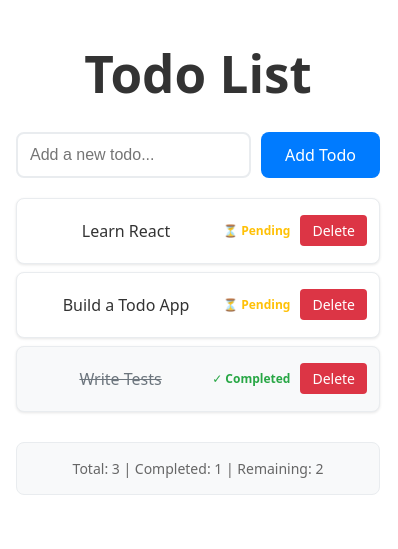
Test: TodoList Component › adds a new todo when form is submitted
The image size is (398, 549).
Type "New Todo Item" into the field with placeholder "Add a new todo..." at (134, 155), box [16, 132, 251, 178]
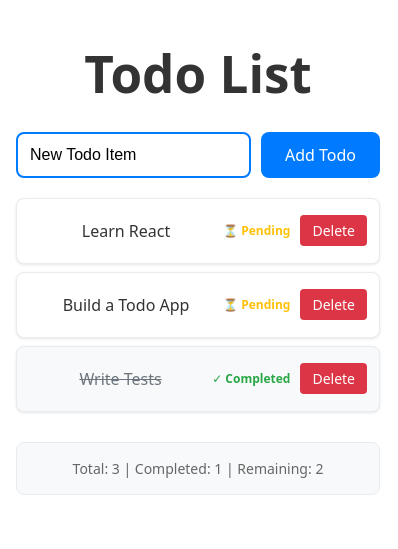
Click the button "Add Todo" at (320, 155), box [261, 132, 380, 178]
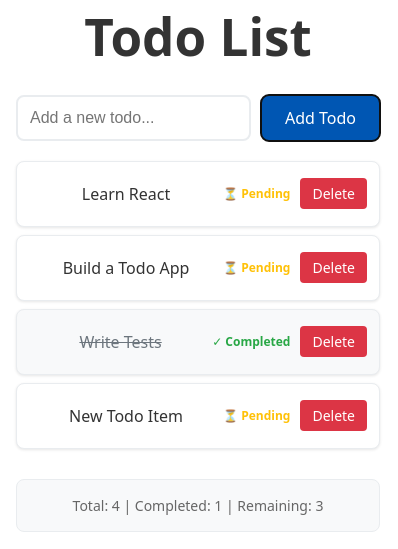
Check: the text "New Todo Item" is shown, box [69, 405, 183, 427]
Check: the text "Total: 4 | Completed: 1 | Remaining: 3" is shown, box [73, 496, 323, 515]
Check: the field with placeholder "Add a new todo..." is empty, box [16, 95, 251, 141]
